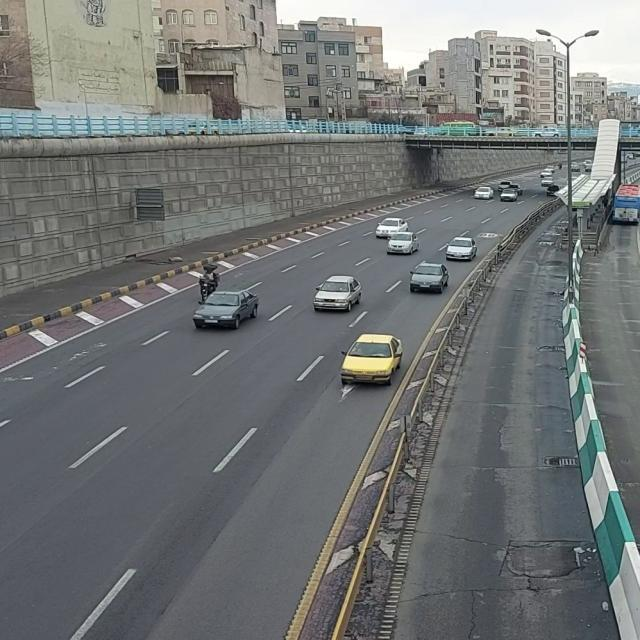Bus: (612, 184, 640, 226)
Car: (336, 331, 406, 391), (192, 291, 260, 331), (312, 275, 363, 313), (409, 263, 449, 294), (387, 230, 421, 256), (444, 238, 480, 262)
